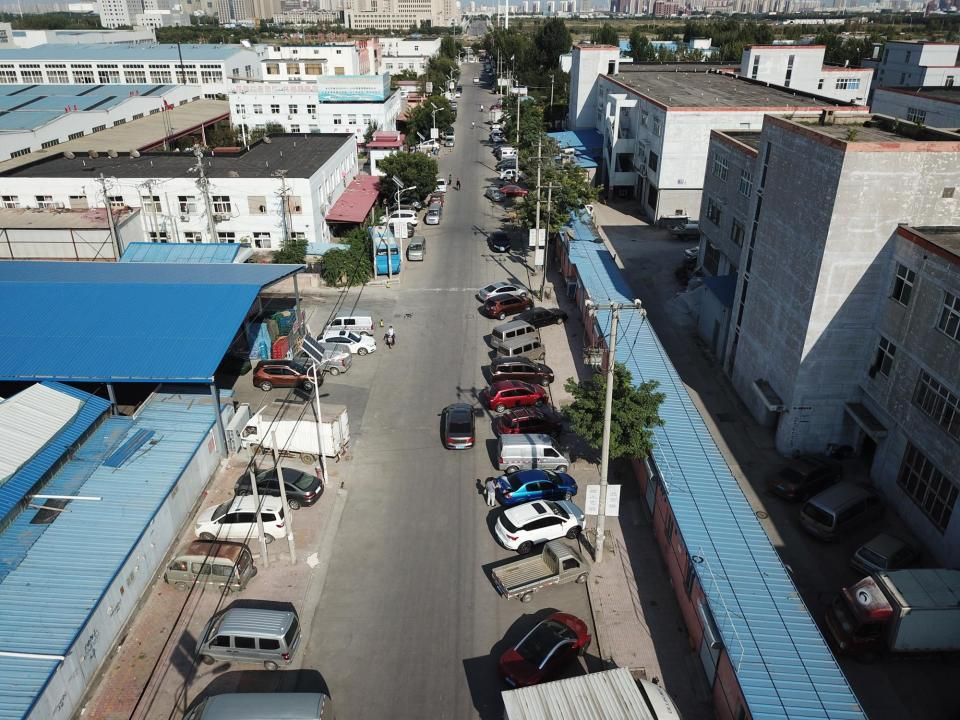bus: (367, 226, 400, 275)
car: (500, 612, 592, 686), (493, 500, 586, 554), (195, 496, 290, 543), (234, 466, 324, 510), (770, 454, 844, 496), (494, 468, 577, 503), (851, 533, 914, 576), (496, 409, 562, 442), (253, 361, 325, 391), (484, 380, 548, 412), (491, 356, 553, 387), (443, 402, 477, 450), (316, 331, 378, 357), (483, 294, 534, 320), (516, 308, 567, 329), (479, 281, 529, 302), (378, 210, 418, 226), (378, 222, 415, 238), (684, 245, 714, 261), (490, 232, 511, 253), (499, 185, 529, 197), (381, 205, 416, 215), (394, 198, 421, 210), (486, 187, 505, 202), (413, 142, 440, 152), (497, 160, 523, 170), (499, 170, 524, 180), (433, 178, 447, 194), (429, 193, 444, 206), (495, 146, 513, 156), (492, 145, 510, 152), (490, 103, 507, 110), (497, 159, 516, 165), (394, 93, 408, 99), (446, 132, 455, 141), (396, 88, 409, 94), (394, 91, 409, 96), (445, 138, 454, 146), (445, 127, 454, 134), (491, 78, 502, 83), (492, 122, 500, 128), (491, 128, 499, 134), (492, 82, 499, 88), (451, 109, 457, 116), (456, 87, 462, 93), (491, 76, 499, 80), (473, 77, 479, 82), (454, 92, 460, 97), (451, 106, 457, 111), (494, 80, 501, 84), (451, 100, 458, 104), (469, 60, 477, 63), (490, 74, 502, 76), (457, 86, 463, 90), (451, 104, 457, 108), (486, 68, 490, 72), (489, 72, 494, 74)
truck: (823, 567, 960, 665), (500, 667, 682, 720), (238, 400, 350, 462), (490, 540, 591, 602), (666, 219, 722, 243), (488, 109, 509, 123)
van: (194, 607, 300, 670), (805, 476, 884, 541), (163, 543, 252, 595), (181, 693, 336, 719), (496, 434, 571, 472), (292, 341, 350, 375), (491, 320, 539, 348), (498, 336, 546, 364), (325, 310, 376, 336), (408, 236, 426, 261), (426, 203, 442, 225), (498, 148, 517, 158), (501, 149, 519, 158), (492, 130, 502, 142), (444, 93, 455, 99)
